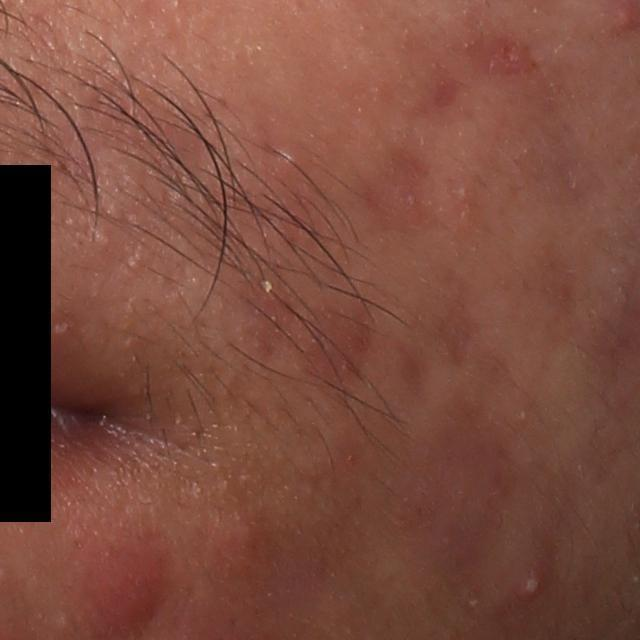papule: (71, 525, 172, 631), (213, 508, 279, 574), (611, 0, 639, 34)
pustule: (512, 561, 552, 603)
